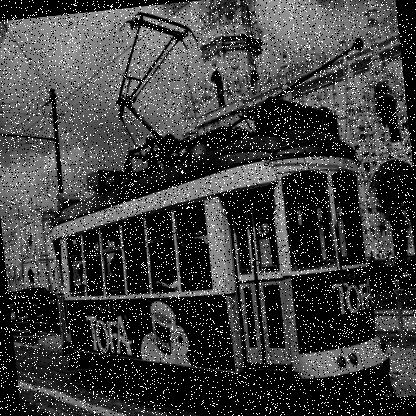Car: (368, 255, 415, 293), (12, 287, 50, 320), (406, 256, 415, 280), (8, 292, 16, 303)
